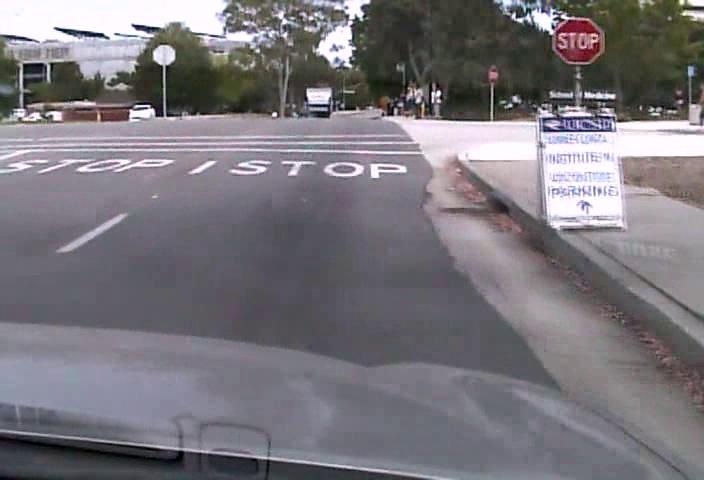stop: (551, 17, 605, 65)
